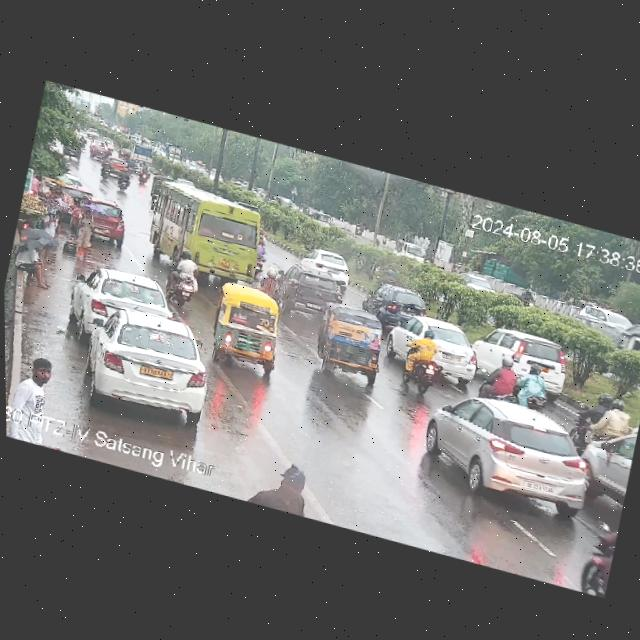bus: (142, 172, 276, 286)
car: (415, 379, 608, 524), (75, 298, 221, 423), (67, 262, 178, 349), (203, 280, 291, 378), (308, 295, 397, 387), (480, 324, 581, 391), (269, 258, 351, 326), (577, 422, 634, 508), (568, 298, 640, 360), (563, 515, 616, 598), (363, 277, 434, 333), (77, 195, 132, 245), (304, 245, 353, 282), (618, 311, 640, 358), (460, 269, 490, 293), (65, 181, 94, 205), (87, 143, 104, 163), (85, 127, 101, 140), (74, 128, 89, 141), (89, 138, 105, 147), (117, 146, 128, 157), (104, 139, 114, 150)
motorcycle: (563, 387, 640, 455), (484, 353, 560, 415), (393, 326, 452, 401), (162, 248, 204, 308), (251, 231, 276, 273), (258, 264, 281, 294), (518, 283, 538, 307), (116, 166, 134, 192), (98, 154, 113, 183), (135, 160, 150, 187), (123, 154, 142, 175), (77, 135, 85, 146), (104, 148, 112, 158)
person: (249, 453, 321, 519), (10, 236, 62, 291), (17, 351, 63, 411), (35, 208, 62, 263), (71, 207, 98, 260), (45, 185, 66, 204)
truck: (393, 239, 428, 266), (128, 141, 155, 165)
